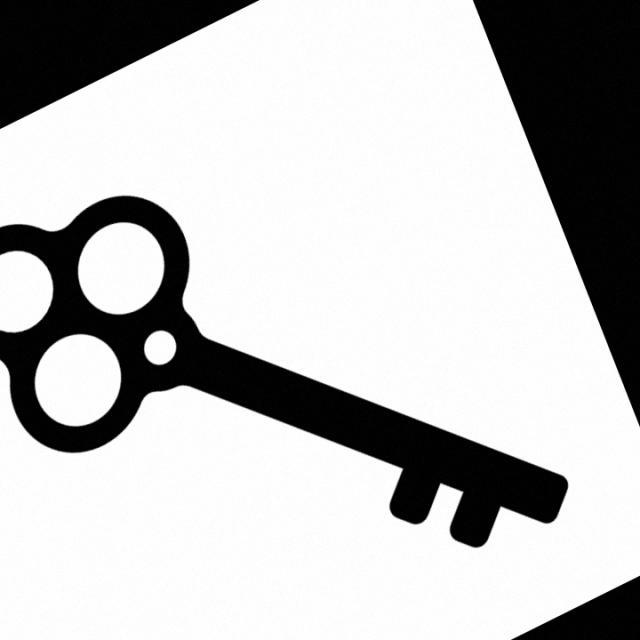key: (6, 192, 576, 558)
